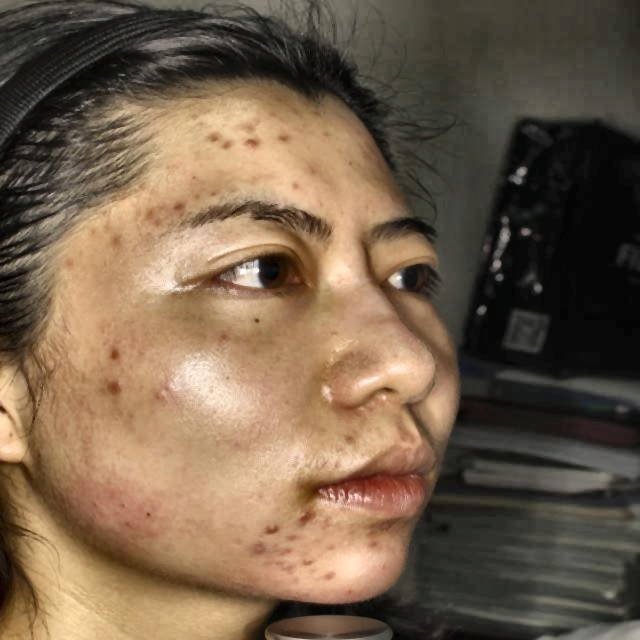pustule: (237, 117, 274, 157), (98, 374, 134, 406), (131, 201, 160, 234), (193, 130, 229, 154), (316, 566, 346, 591), (164, 198, 191, 217), (292, 551, 317, 570), (250, 540, 273, 560), (296, 497, 316, 519), (260, 516, 286, 532), (275, 127, 295, 146), (106, 344, 119, 360)
